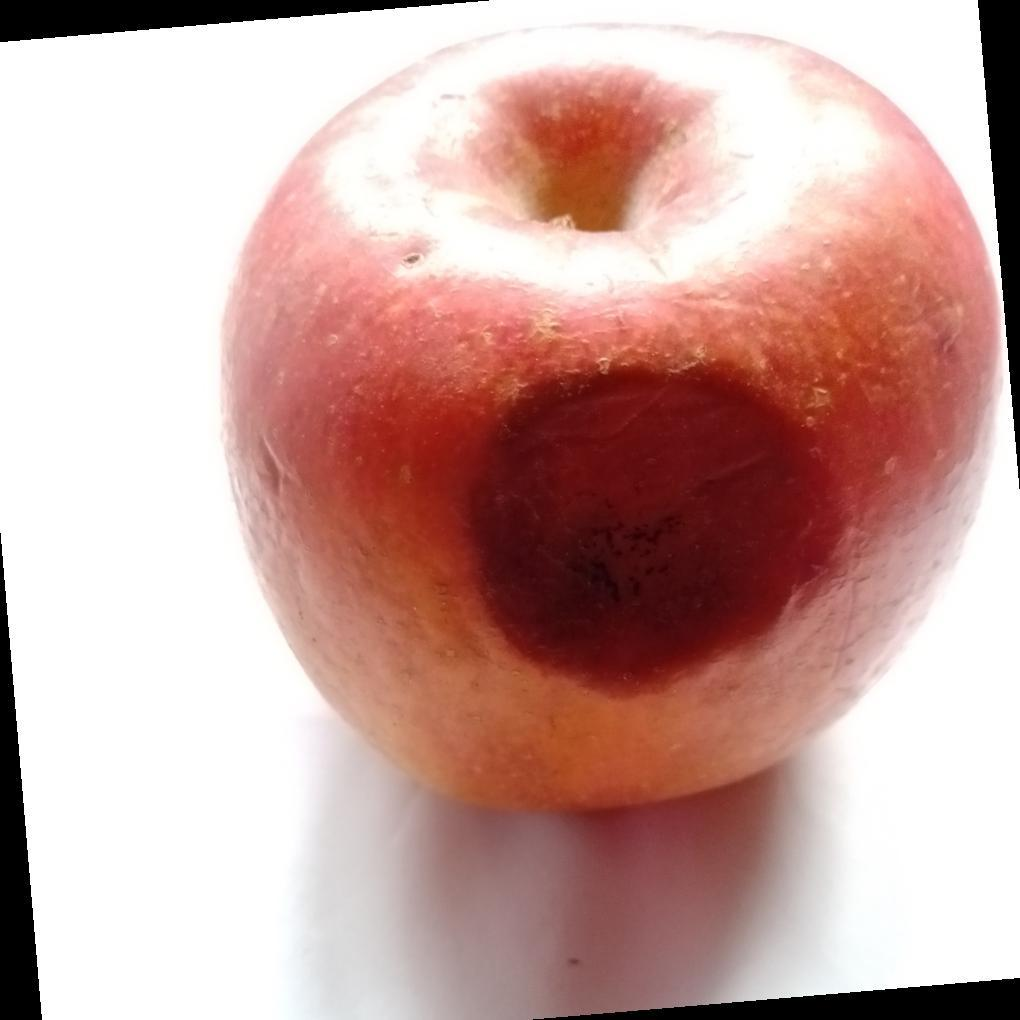FreshOrange: (218, 23, 1010, 818)
